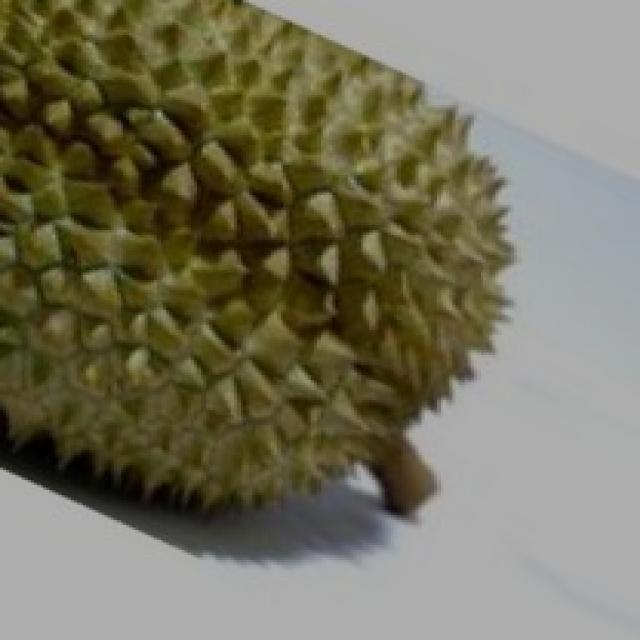fruit: (0, 220, 431, 605)
